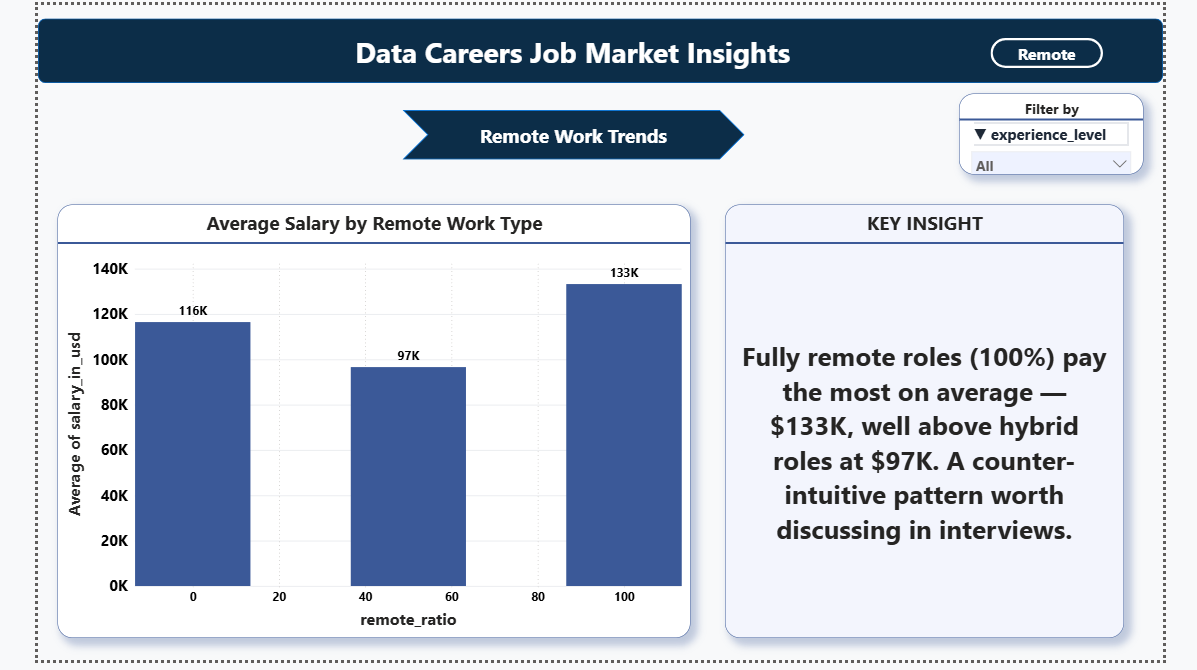

The dashboard page shown, as its layout file describes it:
{"tool":"powerbi","page":{"name":"Remote work","canvas":[1500,873],"ordinal":2},"visuals":[{"type":"shape","box":[0,18,1500,86],"z":0},{"type":"textbox","box":[380,32,666,72],"z":1000},{"type":"actionButton","box":[1270,44,150,40],"z":2000},{"type":"slicer","title":"Filter by","fields":{"Values":["job_market salaries.experience_level"]},"box":[1228,118,246,108],"z":3000},{"type":"clusteredColumnChart","title":"Average Salary by Remote Work Type","fields":{"Category":["job_market salaries.remote_ratio"],"Y":["Avg(job_market salaries.salary_in_usd)"]},"box":[26,266,844,578],"z":4000},{"type":"shape","box":[486,140,456,66],"z":5000},{"type":"actionButton","title":"KEY INSIGHT","box":[916,266,532,578],"z":6000}]}

Visuals, with their boxes on the page's 1500x873 design canvas (x1, y1, x2, y2). These are canvas units, not pixel positions in the 1197x670 screenshot, which may show the page scaled, cropped or inside an application window:
shape: BBox(0, 18, 1500, 104)
textbox: BBox(380, 32, 1046, 104)
actionButton: BBox(1270, 44, 1420, 84)
"Filter by" slicer: BBox(1228, 118, 1474, 226)
"Average Salary by Remote Work Type" clusteredColumnChart: BBox(26, 266, 870, 844)
shape: BBox(486, 140, 942, 206)
"KEY INSIGHT" actionButton: BBox(916, 266, 1448, 844)
